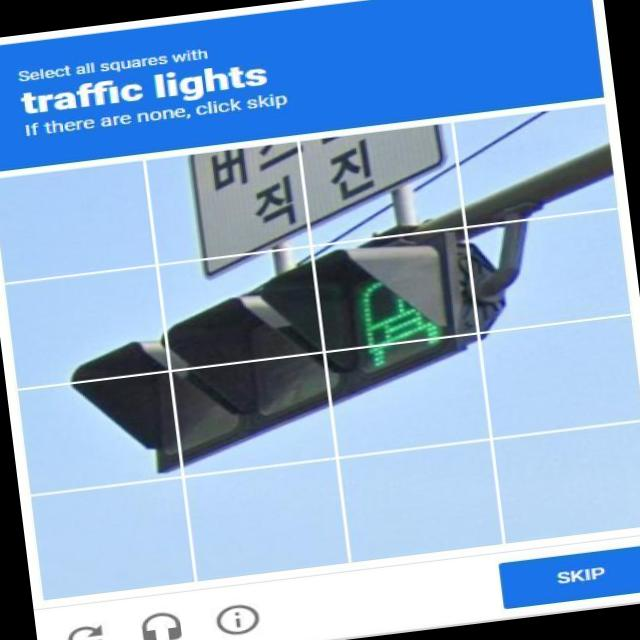green-lights: (330, 222, 457, 370)
